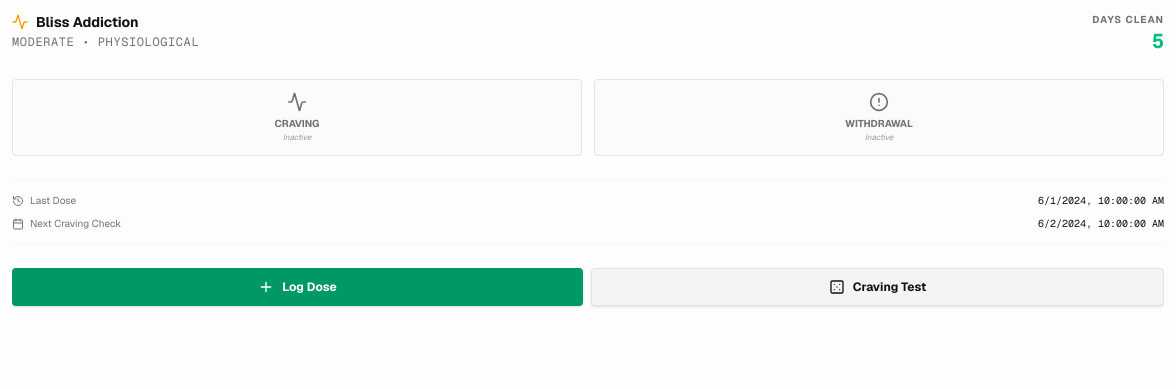
AddictionTracker › shows roll result UI after clicking
The width and height of the screenshot is (1176, 389).
Click the button "Craving Test": (878, 287) [591,268,1164,306]
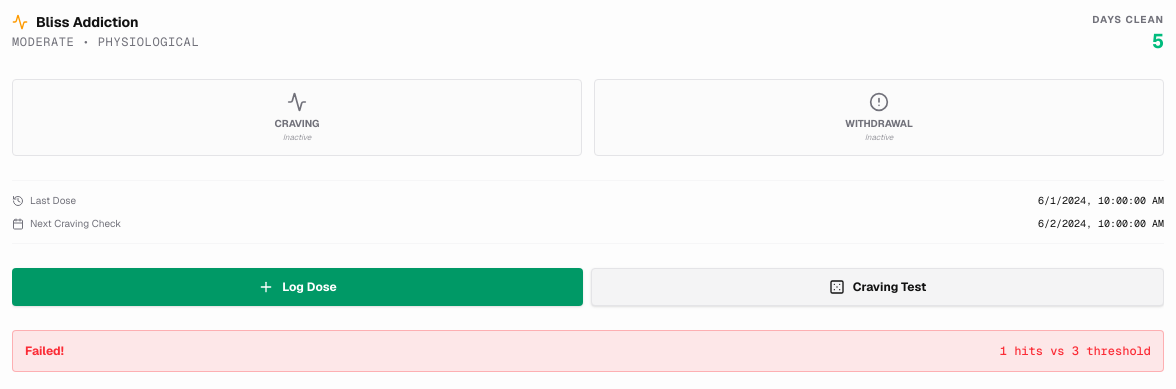
Now the text "Failed!" is shown, box [25,343,64,359]
Now the text "1 hits vs 3 threshold" is shown, box [1000,343,1151,359]
